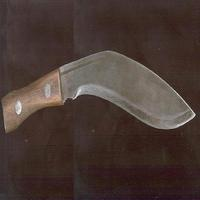knife: (2, 43, 196, 132)
